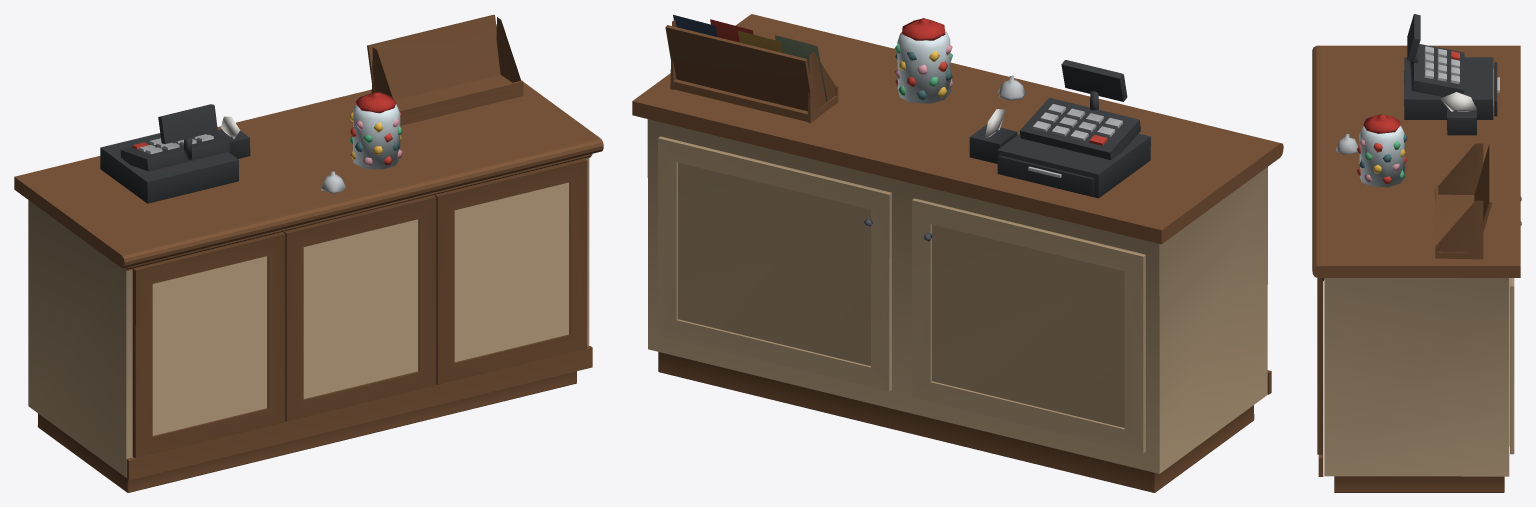
The model's file is shopCounter.far.glb.
3 renders of one model, left to right at view 1: azimuth 30°, elevation 25°; view 2: azimuth 150°, elevation 25°; view 3: azimuth 270°, elevation 25°, orthographic. The views are drawn at different scales.
Visible parts, largest first — view 1: shopCounter_far; view 2: shopCounter_far; view 3: shopCounter_far.
Boxes of the visible parts, x1,y1,x2,y2 form: shopCounter_far: (14, 14, 603, 492); shopCounter_far: (632, 14, 1283, 492); shopCounter_far: (1312, 14, 1521, 492).
Size of the model in its own units: 1.96 by 1.28 by 0.7859.
